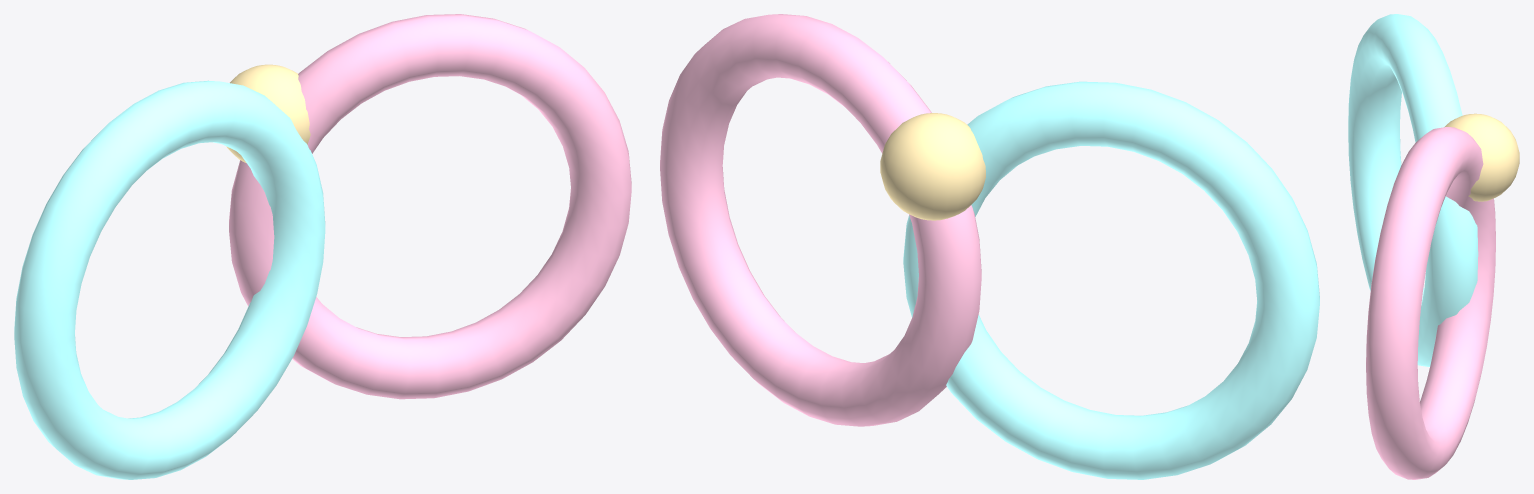
File: twin_ring.glb
3 renders of one model, left to right at view 1: azimuth 30°, elevation 25°; view 2: azimuth 150°, elevation 25°; view 3: azimuth 270°, elevation 25°, orthographic. The views are drawn at different scales.
Visible parts, largest first — view 1: FirstLoop, SecondLoop, SharedSpark; view 2: FirstLoop, SecondLoop, SharedSpark; view 3: SecondLoop, FirstLoop, SharedSpark.
Boxes of the visible parts, x1,y1,x2,y2 form: FirstLoop: (14, 80, 325, 479); SecondLoop: (229, 14, 631, 399); SharedSpark: (226, 64, 310, 162); FirstLoop: (903, 81, 1319, 479); SecondLoop: (660, 14, 981, 426); SharedSpark: (880, 113, 985, 220); SecondLoop: (1366, 127, 1495, 479); FirstLoop: (1348, 14, 1478, 366); SharedSpark: (1444, 113, 1519, 201).
Bounding box in the file's own units: 0.0686 × 0.04 × 0.0193.
